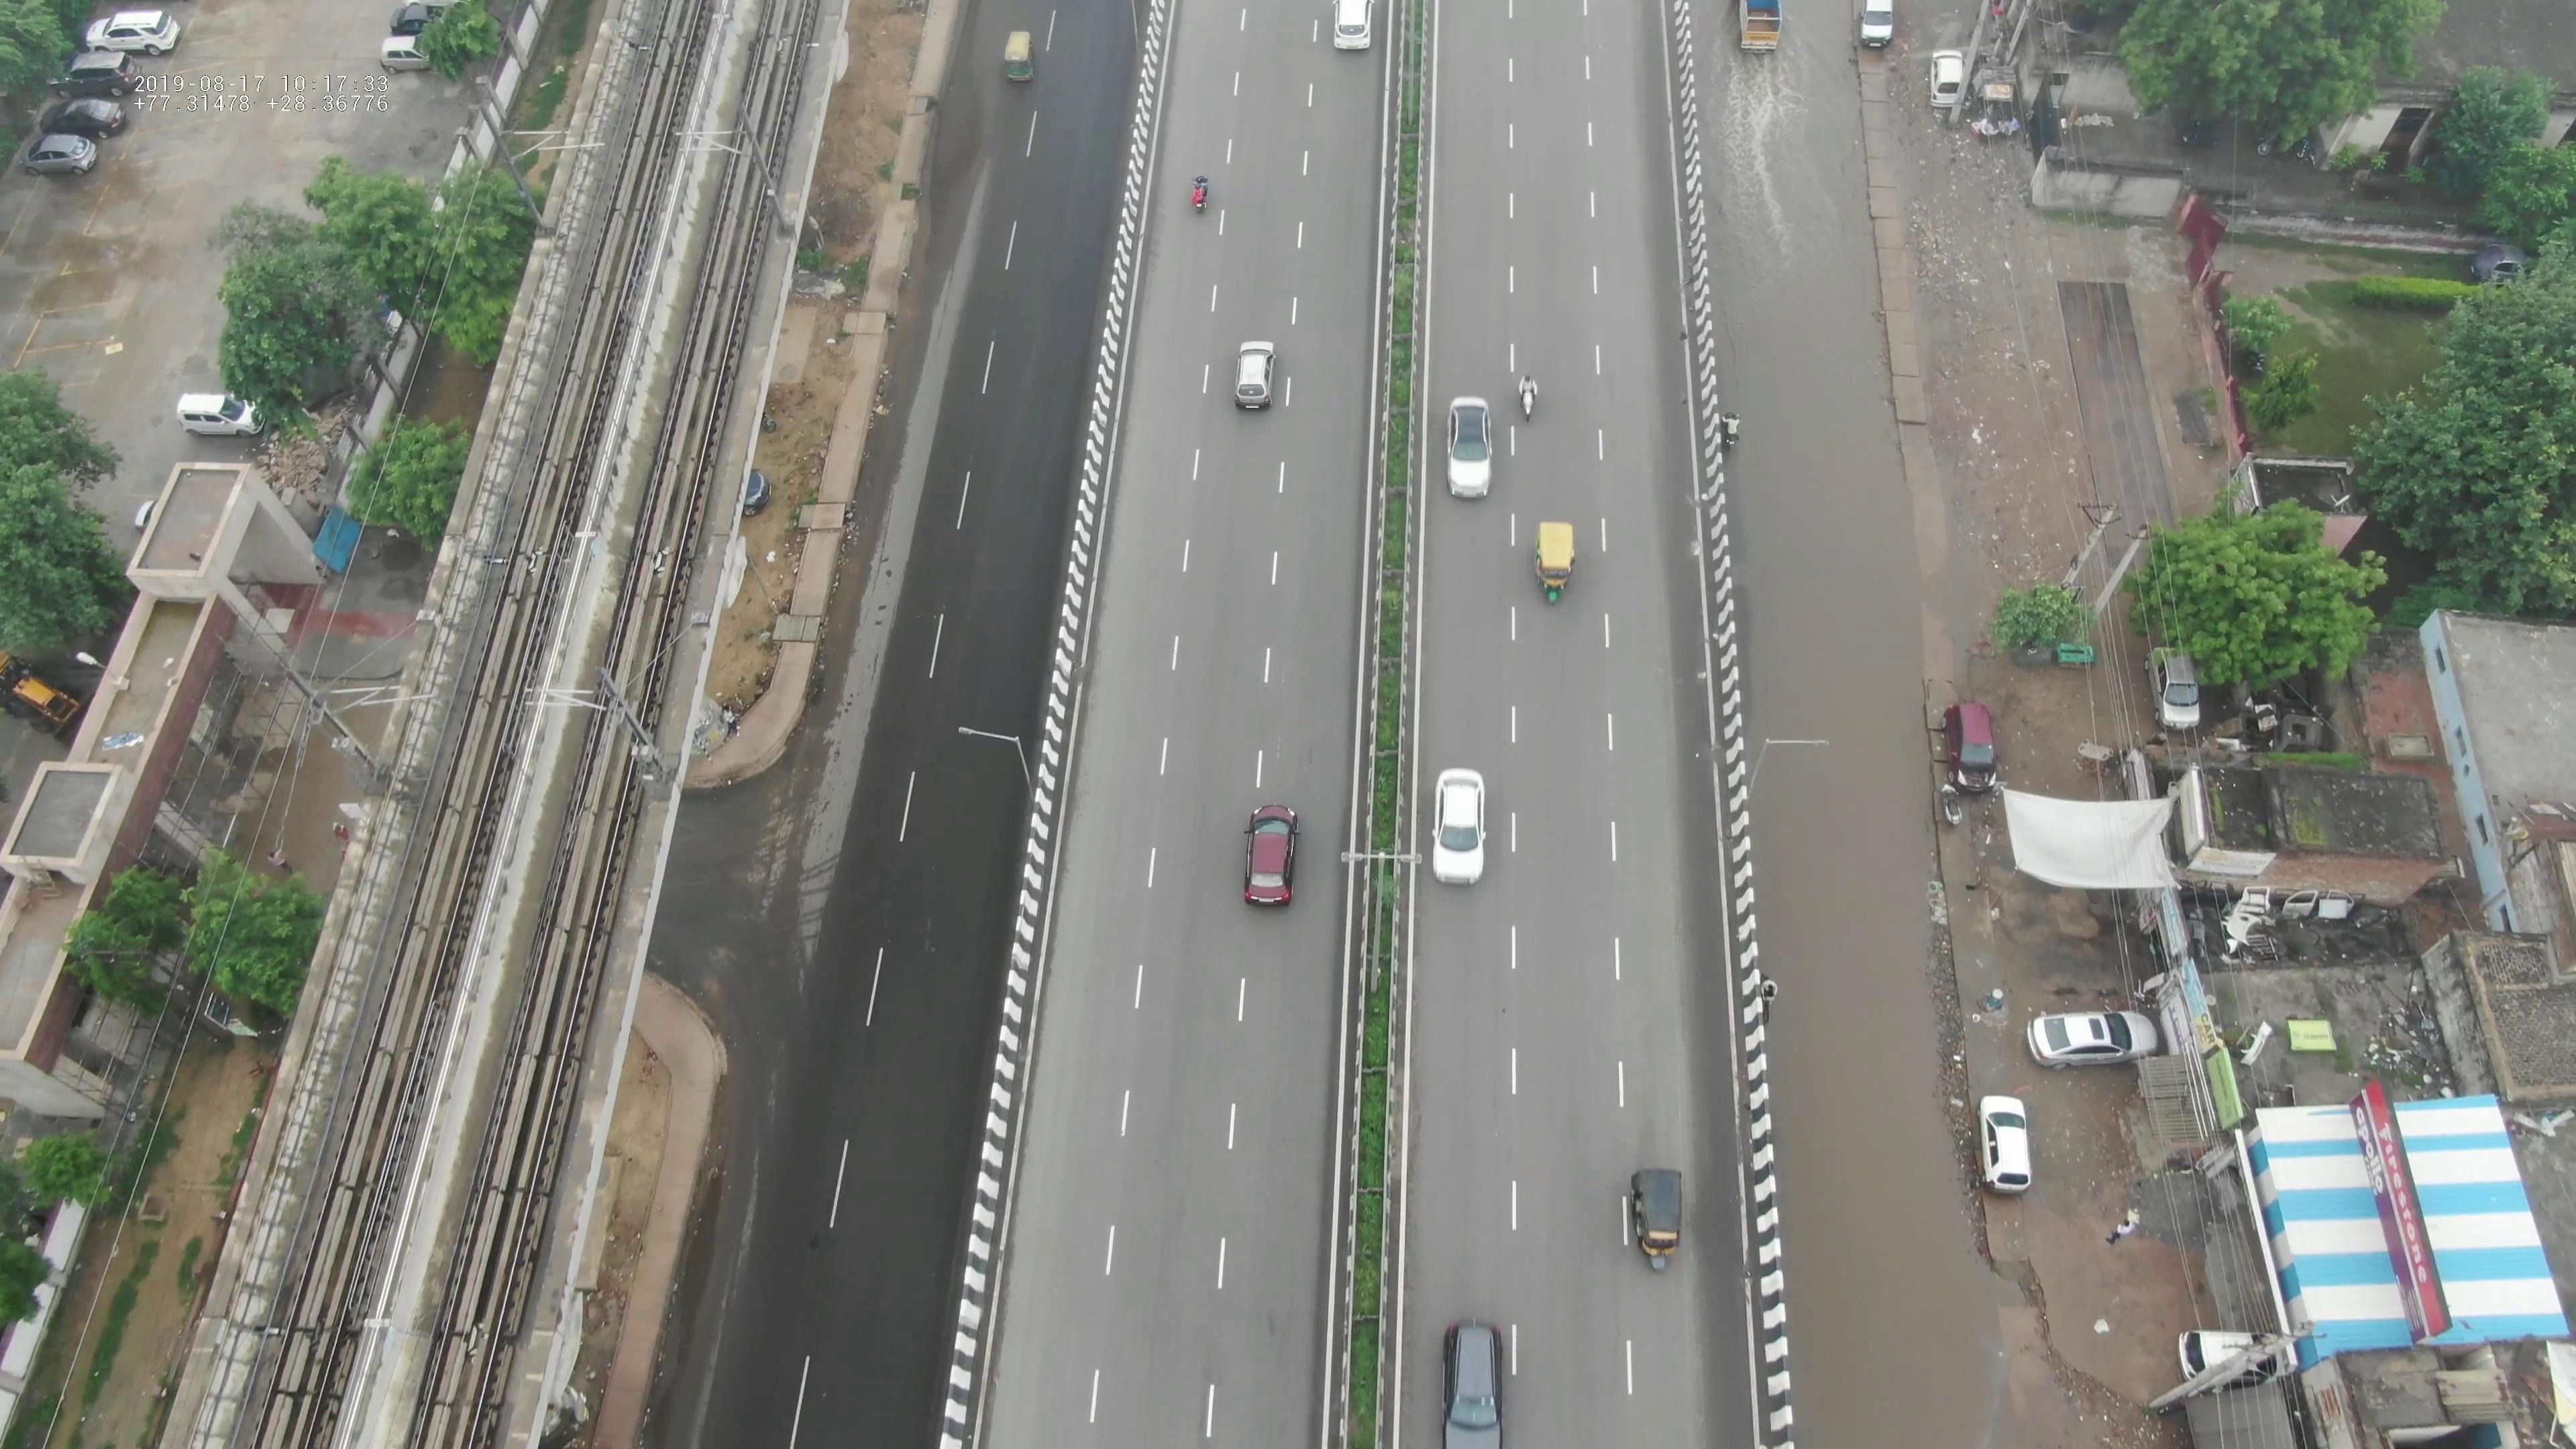Waterlogging: (1744, 575, 1943, 1093), (1700, 53, 1913, 525), (651, 1143, 747, 1355), (922, 42, 1007, 191)
